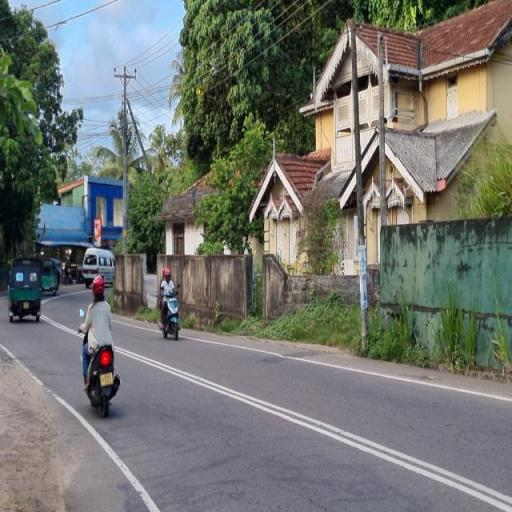double_white_line: (262, 160, 304, 218), (0, 343, 43, 385)
